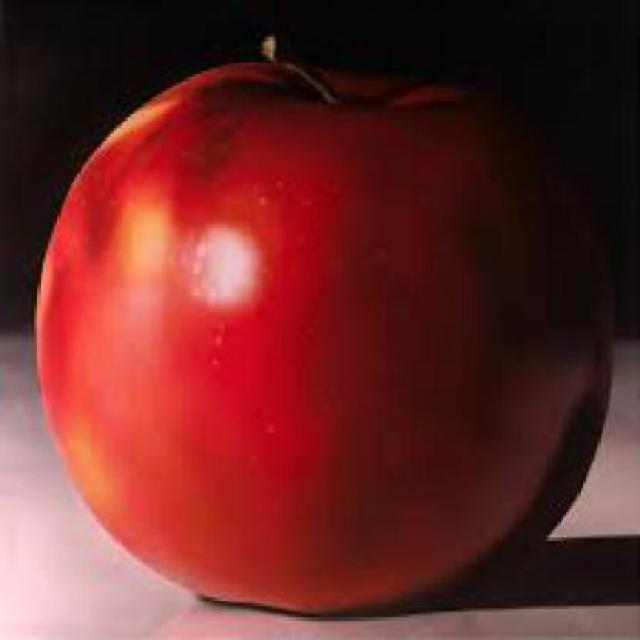BIODEGRADABLE: (28, 31, 614, 623)
